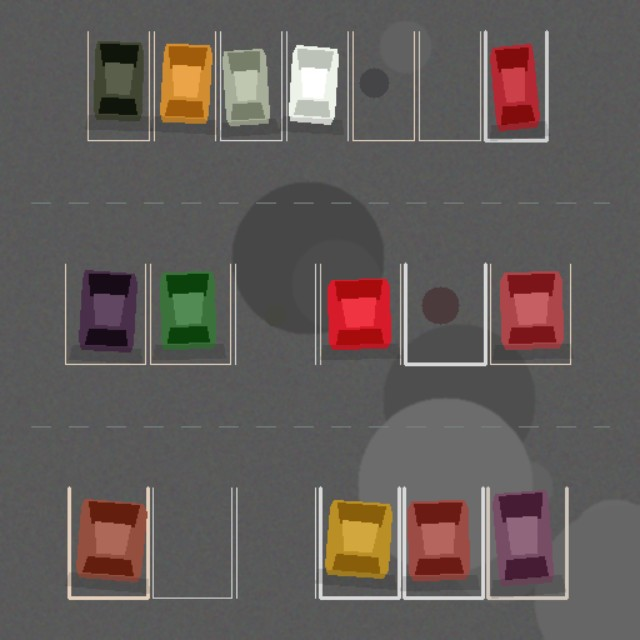space-empty: (236, 487, 315, 597), (153, 487, 231, 597), (235, 264, 315, 364), (405, 264, 485, 364), (353, 31, 414, 140), (419, 31, 480, 140)
space-occupied: (320, 487, 399, 597), (404, 487, 483, 597), (487, 487, 566, 597), (69, 487, 147, 597), (65, 264, 145, 364), (150, 264, 230, 364), (320, 264, 400, 364), (490, 264, 570, 364), (87, 31, 149, 140), (154, 31, 215, 140), (220, 31, 281, 140), (286, 31, 347, 140), (485, 31, 546, 140)
